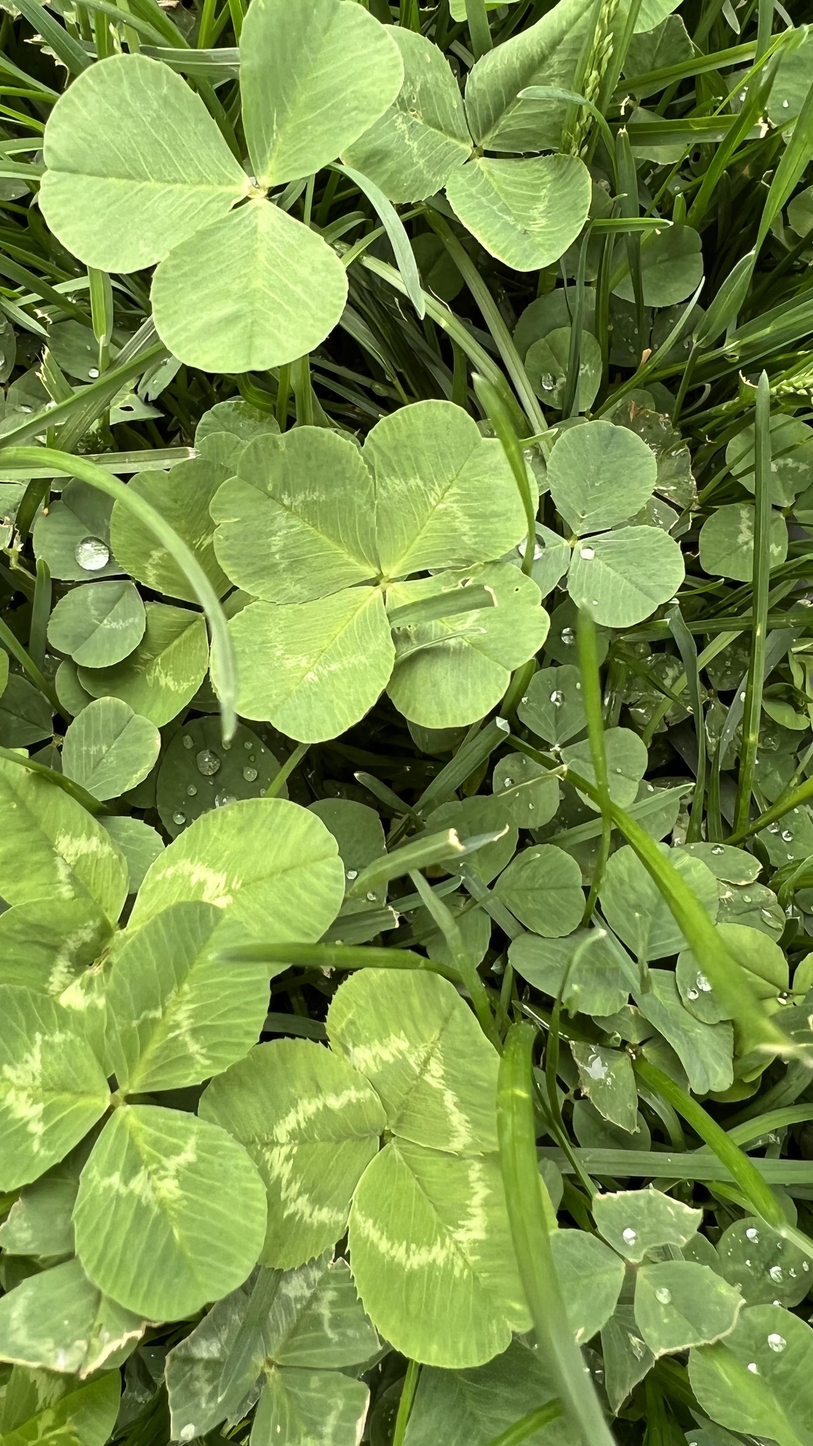4-Leaf-Clovers: (227, 472, 418, 1078)
